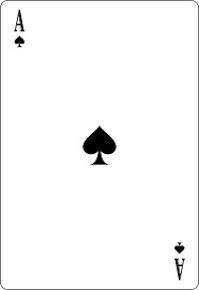AceOfSpades: (1, 1, 198, 290)
